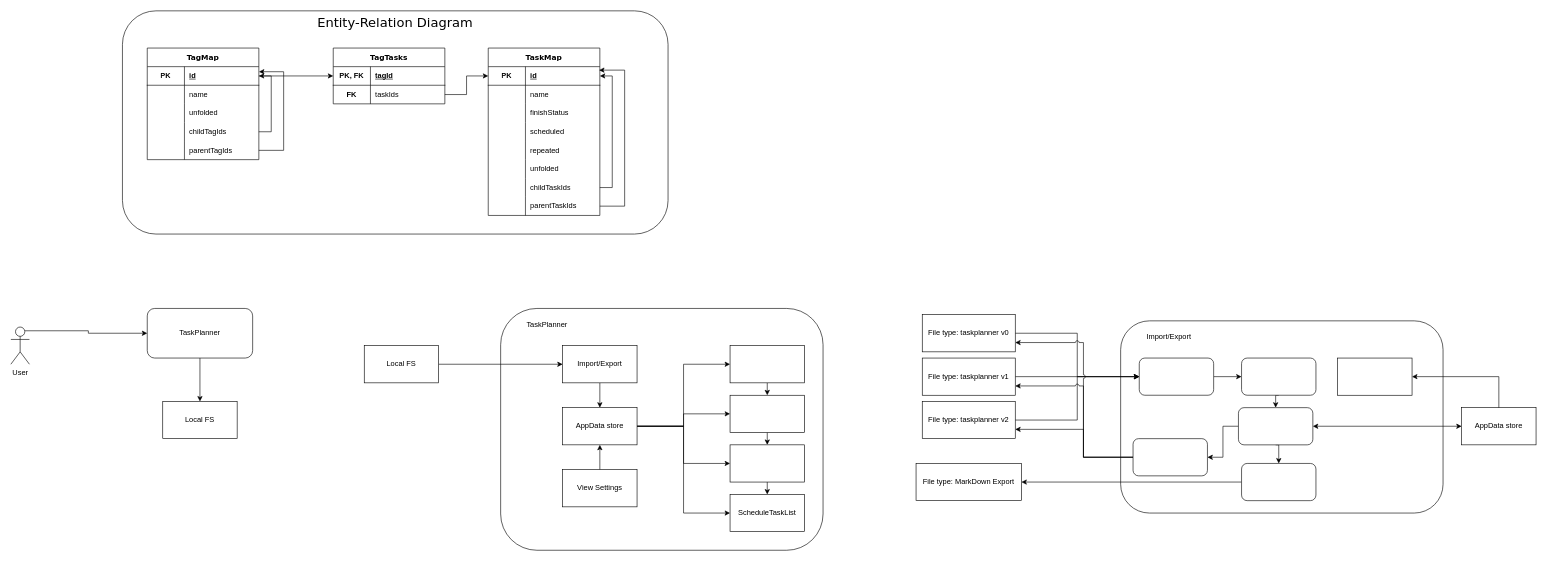
Image size: 1547x561. Some labels were removed from this diagram. The shapes that lost their labels are listed below. From the top down, each one's centre as x and y in pixels, then its label:
At [766,364]: "AddTaskList".
At [1176,376]: "Version determining".
At [1278,376]: "Input Parser".
At [1374,376]: "Data mutation checker".
At [766,413]: "CategorizeTaskList".
At [1275,426]: "Version converter".
At [766,463]: "PrioritizeTaskList".
At [1169,457]: "Save formatter".
At [1278,482]: "Export formatter".
